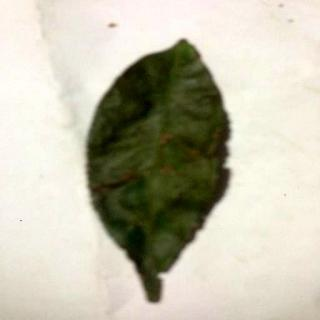Red Leaf Spot: (88, 40, 225, 303)
